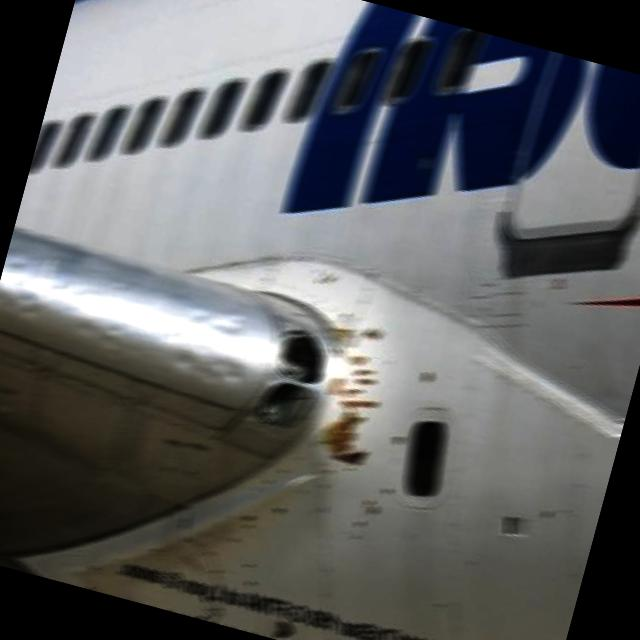dent: (0, 245, 264, 397)
